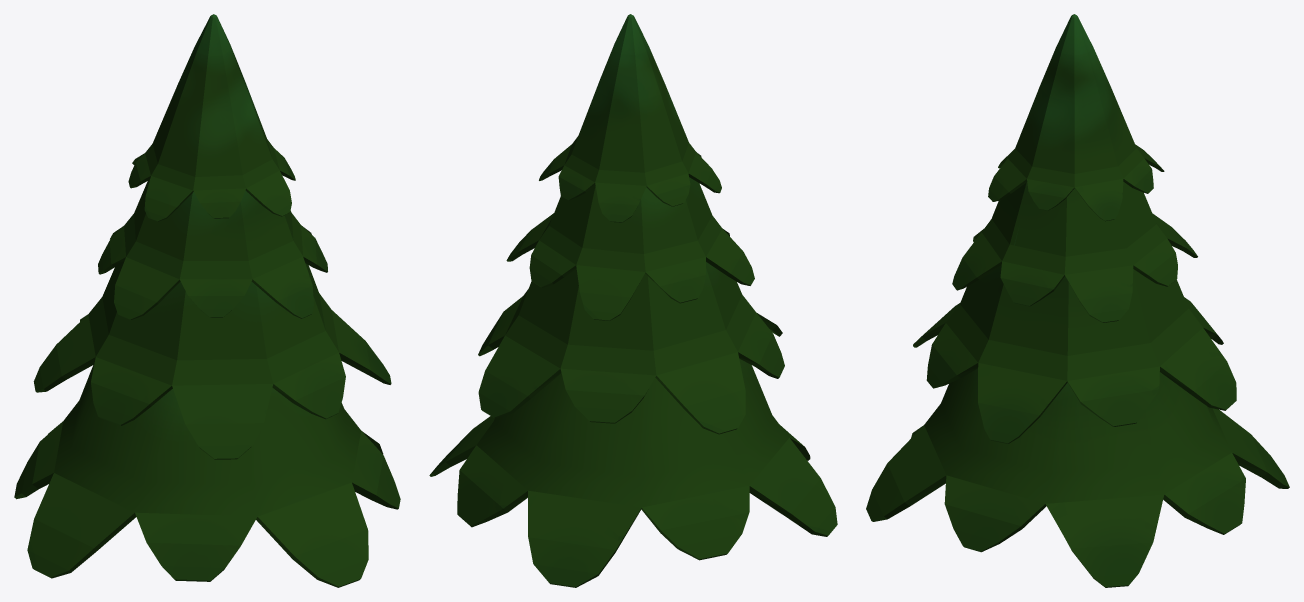
3 views of the same model, side by side, from view 1: azimuth 30°, elevation 25°; view 2: azimuth 150°, elevation 25°; view 3: azimuth 270°, elevation 25° (orthographic). The views are drawn at different scales.
Visible parts, largest first — view 1: 4_recte; view 2: 4_recte; view 3: 4_recte.
Part boxes in pixels (x1,y1,x2,y2): 4_recte: (14,14,400,587); 4_recte: (429,14,837,587); 4_recte: (866,14,1289,587).
Size of the model in its own units: 1.33 by 1.69 by 1.33.
